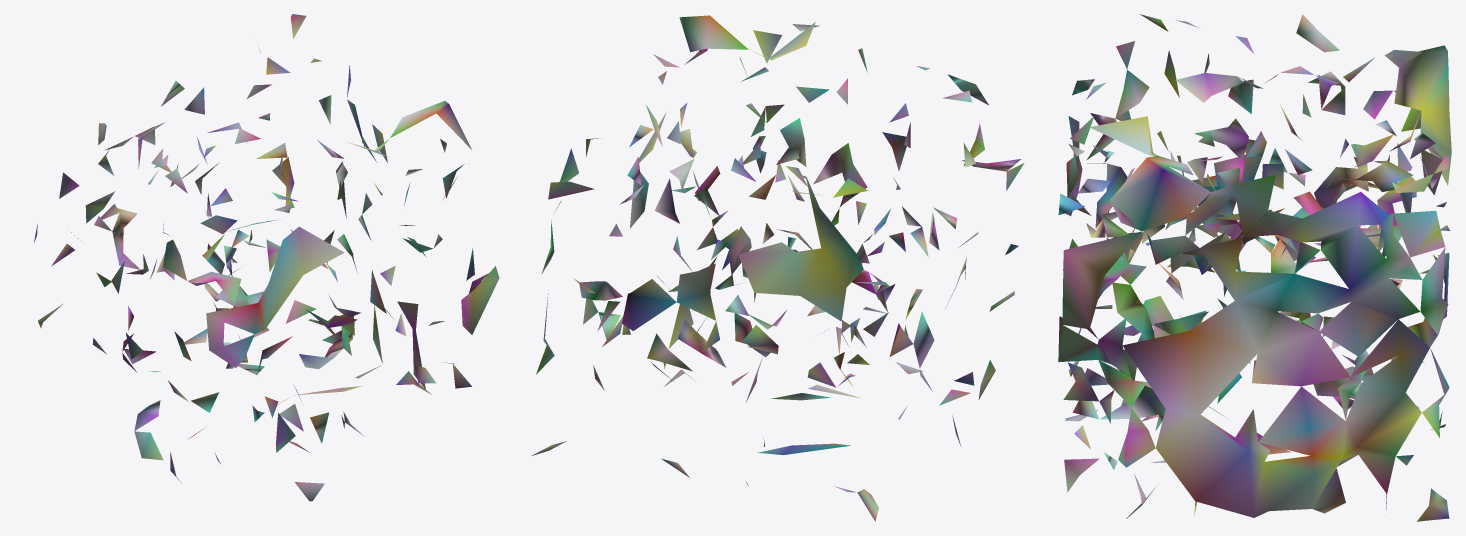
3 renders of one model, left to right at view 1: azimuth 30°, elevation 25°; view 2: azimuth 150°, elevation 25°; view 3: azimuth 270°, elevation 25°, orthographic. The views are drawn at different scales.
Bounding box in the file's own units: 0.9981 × 0.9957 × 0.9954.
